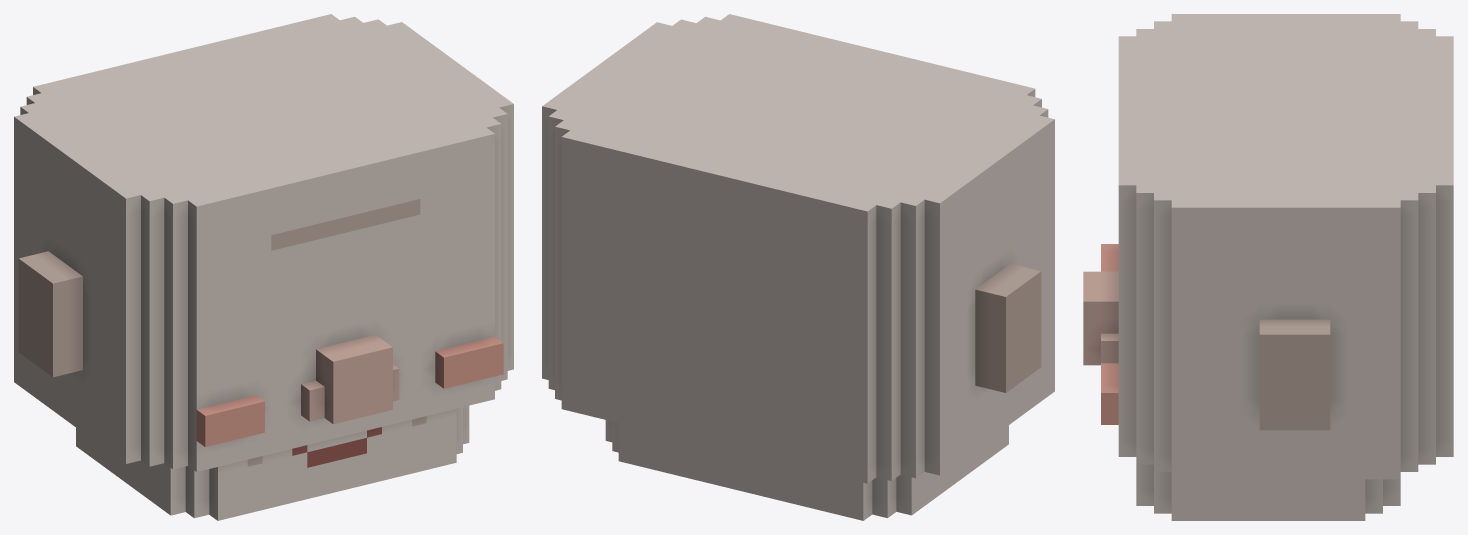
File: head_middle.glb
3 views of the same model, side by side, from view 1: azimuth 30°, elevation 25°; view 2: azimuth 150°, elevation 25°; view 3: azimuth 270°, elevation 25° (orthographic). The views are drawn at different scales.
Visible parts, largest first — view 1: VoxelVisual; view 2: VoxelVisual; view 3: VoxelVisual.
Part boxes in pixels (left/top/right/bottom): VoxelVisual: left=14, top=14, right=513, bottom=520; VoxelVisual: left=542, top=14, right=1054, bottom=520; VoxelVisual: left=1083, top=14, right=1453, bottom=520.
Size of what is drawn, in the model's own units: 1.88 by 1.31 by 1.31.
